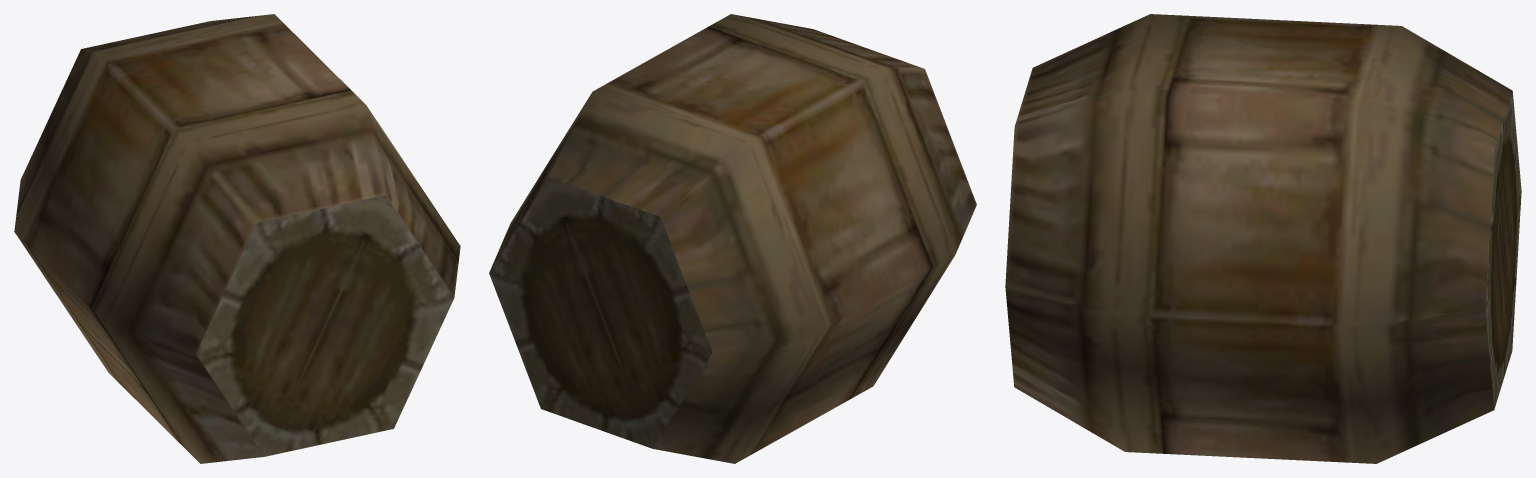
3 renders of one model, left to right at view 1: azimuth 30°, elevation 25°; view 2: azimuth 150°, elevation 25°; view 3: azimuth 270°, elevation 25°, orthographic. The views are drawn at different scales.
Parts seen in each view (by area): view 1: pasted__Combined_Mesh_root_scene__Mesh_polySurface4507; view 2: pasted__Combined_Mesh_root_scene__Mesh_polySurface4507; view 3: pasted__Combined_Mesh_root_scene__Mesh_polySurface4507.
Boxes of the visible parts, left/top/right/bottom form: pasted__Combined_Mesh_root_scene__Mesh_polySurface4507: left=14, top=14, right=460, bottom=463; pasted__Combined_Mesh_root_scene__Mesh_polySurface4507: left=489, top=14, right=976, bottom=463; pasted__Combined_Mesh_root_scene__Mesh_polySurface4507: left=1005, top=14, right=1521, bottom=463.
Bounding box in the file's own units: 2.76 × 2.44 × 3.19.
